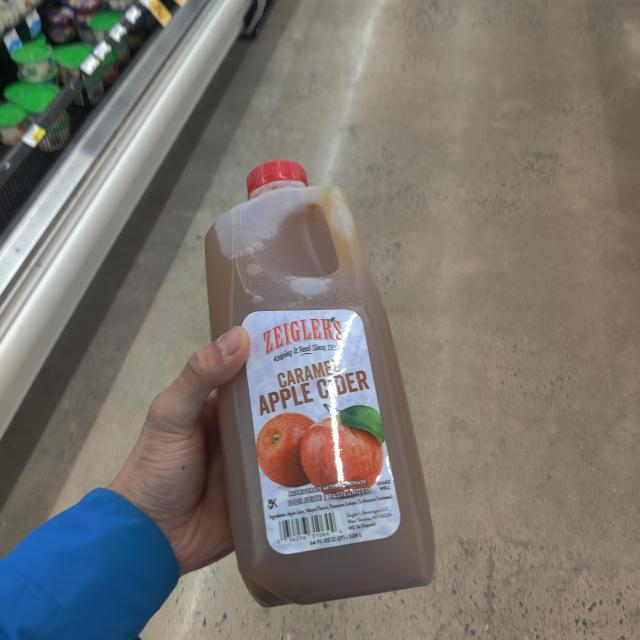Juice: (203, 166, 436, 604)
